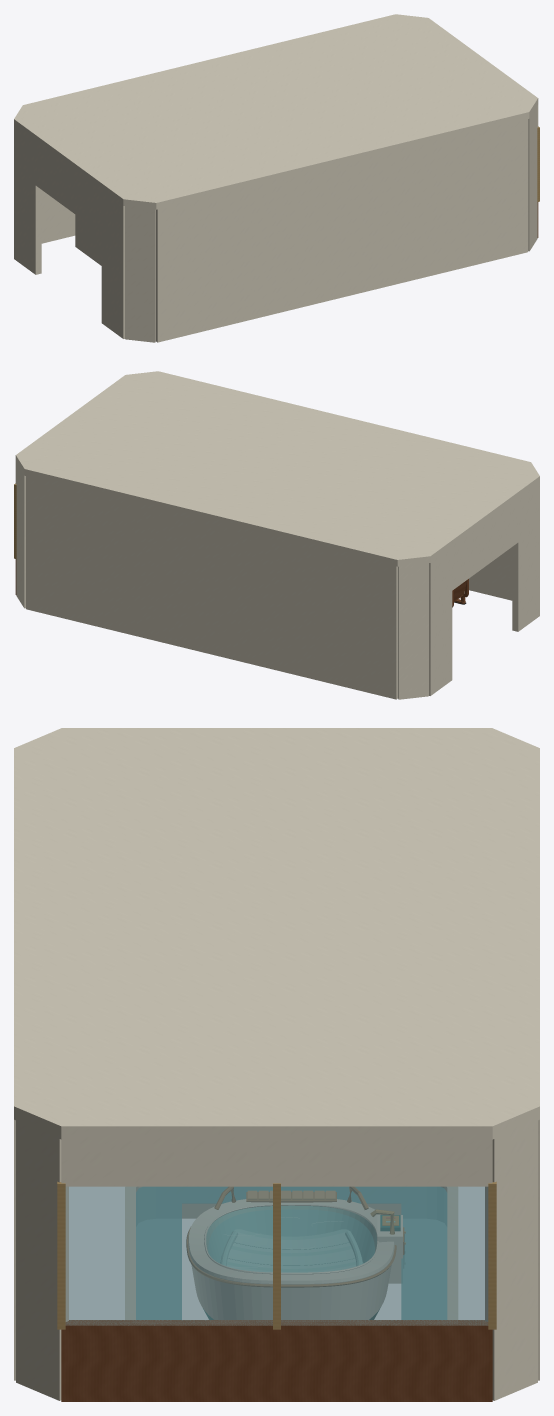
The model's file is D04_PORT_FORWARD_HOME_892_r001.glb.
3 views of the same model, one above another, from view 1: azimuth 30°, elevation 25°; view 2: azimuth 150°, elevation 25°; view 3: azimuth 270°, elevation 25° (orthographic). The views are drawn at different scales.
Visible parts, largest first — view 1: D04H892_Roof, D04H892_Shell_3, D04H892_Shell_2, D04H892_EntryWall_0, D04H892_EntryWall_1, D04H892_EntryHeader, D04H892_Shell_4, D04H892_Shell_7, D04H892_BathDogleg; view 2: D04H892_Roof, D04H892_Shell_7, D04H892_Shell_0, D04H892_EntryWall_1, D04H892_EntryWall_0, D04H892_EntryHeader, D04H892_Shell_3, D04H892_Shell_6; view 3: D04H892_Roof, D04H892_GardenGlass, D04H892_GardenDado, D04H892_GardenHead, D04H892_ReservedAquaticRest__Hollow continuous basin shell w, D04H892_Water_0, D04H892_Shell_4, D04H892_Shell_6, D04H892_ReservedAquaticRest__Contoured broad immersed rest s, D04H892_AquaticBasinRim, D04H892_WindowMullion_0, D04H892_WindowMullion_2 (+1 smaller).
Part boxes in pixels (left/top/right/bottom): D04H892_Roof: left=14, top=14, right=538, bottom=209; D04H892_Shell_3: left=156, top=119, right=527, bottom=342; D04H892_Shell_2: left=125, top=206, right=155, bottom=342; D04H892_EntryWall_0: left=14, top=126, right=41, bottom=274; D04H892_EntryWall_1: left=101, top=190, right=124, bottom=338; D04H892_EntryHeader: left=35, top=142, right=101, bottom=233; D04H892_Shell_4: left=528, top=106, right=537, bottom=251; D04H892_Shell_7: left=41, top=190, right=75, bottom=243; D04H892_BathDogleg: left=75, top=215, right=101, bottom=265; D04H892_Roof: left=15, top=371, right=539, bottom=566; D04H892_Shell_7: left=26, top=476, right=397, bottom=699; D04H892_Shell_0: left=398, top=563, right=428, bottom=699; D04H892_EntryWall_1: left=512, top=483, right=539, bottom=631; D04H892_EntryWall_0: left=429, top=547, right=452, bottom=695; D04H892_EntryHeader: left=452, top=499, right=518, bottom=590; D04H892_Shell_3: left=469, top=547, right=512, bottom=600; D04H892_Shell_6: left=16, top=463, right=25, bottom=608; D04H892_Roof: left=14, top=728, right=539, bottom=1139; D04H892_GardenGlass: left=65, top=1186, right=487, bottom=1325; D04H892_GardenDado: left=61, top=1320, right=492, bottom=1401; D04H892_GardenHead: left=61, top=1139, right=492, bottom=1186; D04H892_ReservedAquaticRest__Hollow continuous basin shell w: left=188, top=1199, right=394, bottom=1319; D04H892_Water_0: left=136, top=1187, right=446, bottom=1319; D04H892_Shell_4: left=16, top=1120, right=68, bottom=1400; D04H892_Shell_6: left=485, top=1120, right=537, bottom=1400; D04H892_ReservedAquaticRest__Contoured broad immersed rest s: left=227, top=1229, right=355, bottom=1272; D04H892_AquaticBasinRim: left=125, top=1187, right=457, bottom=1319; D04H892_WindowMullion_0: left=488, top=1181, right=496, bottom=1329; D04H892_WindowMullion_2: left=57, top=1181, right=65, bottom=1329.
Bounding box in the file's own units: 12.93 × 4.16 × 7.2.
39 materials, 20 textured.
